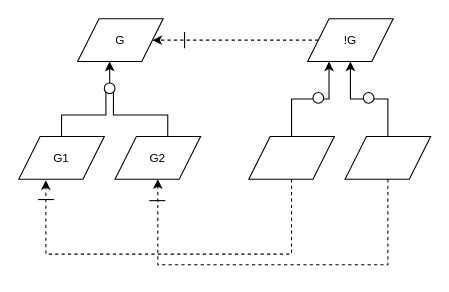
This 449x292 diagram has some shape labels left out. The shapes that lost their labels are listed below. From the top down, each one's centre as x and y in pixels, then its label:
point 291,157: !G1
point 387,157: !G2
